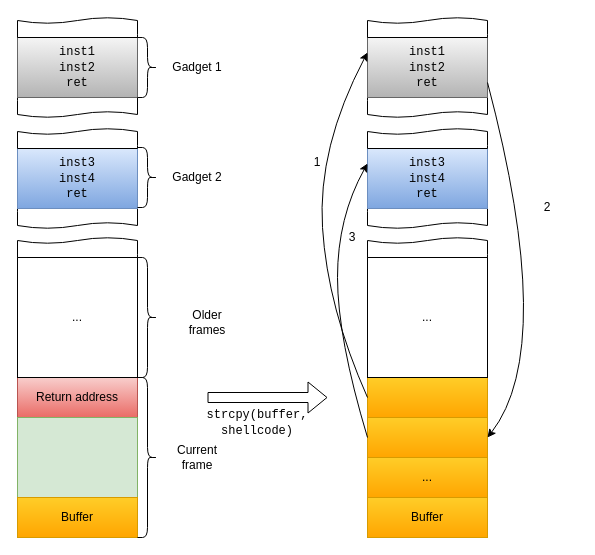
This 595x555 diagram has some shape labels left out. Each missing label, with the centre of its shape:
Local vars: the point at 77,457
Return address 1: the point at 427,397
Return address 2: the point at 427,437
